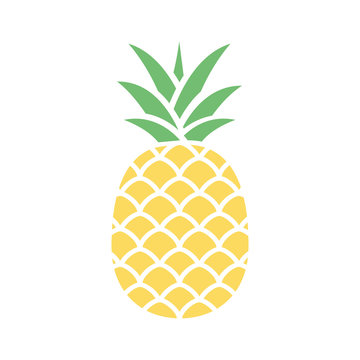Pineapple: (114, 43, 248, 324)
